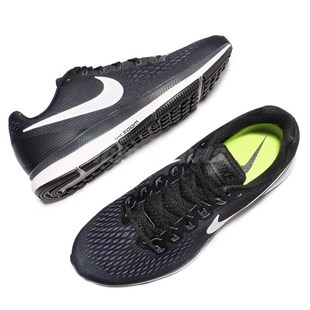nike: (24, 73, 126, 138)
